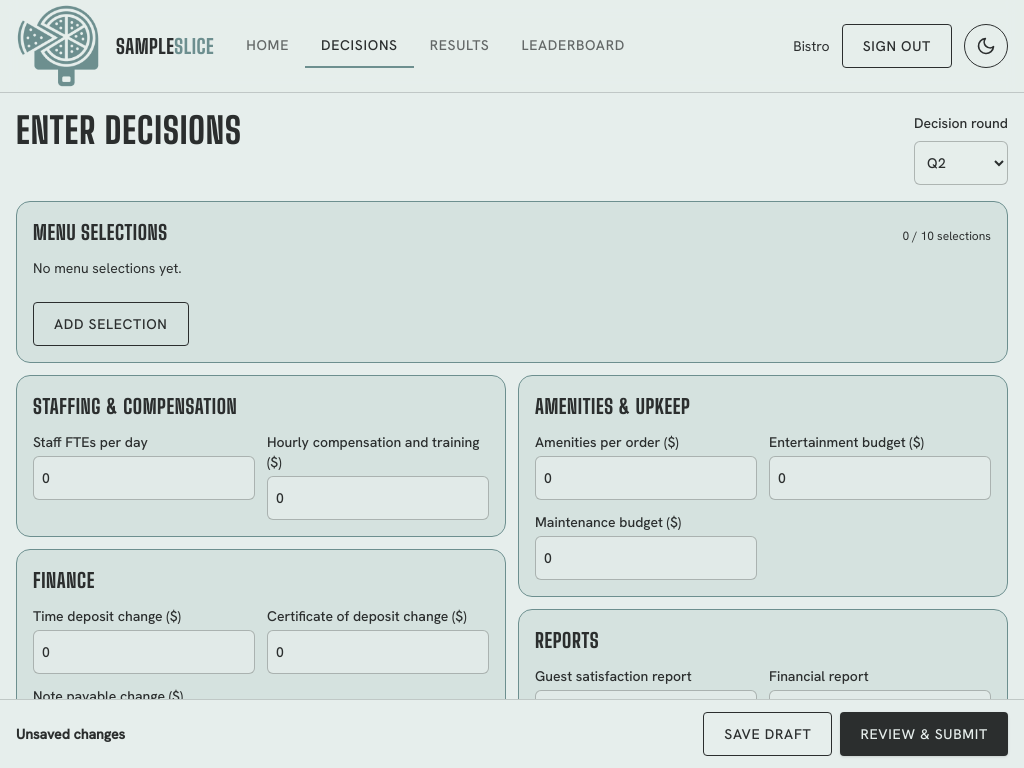
Test case: shows save errors without losing values and allows a manual retry
The width and height of the screenshot is (1024, 768).
Check: the heading "Enter Decisions" is shown, box [16,113,242,149]
Replace the text in the number field labelled "Staff FTEs per day" with "7". click: (144, 478)
box: [33,456,255,500]
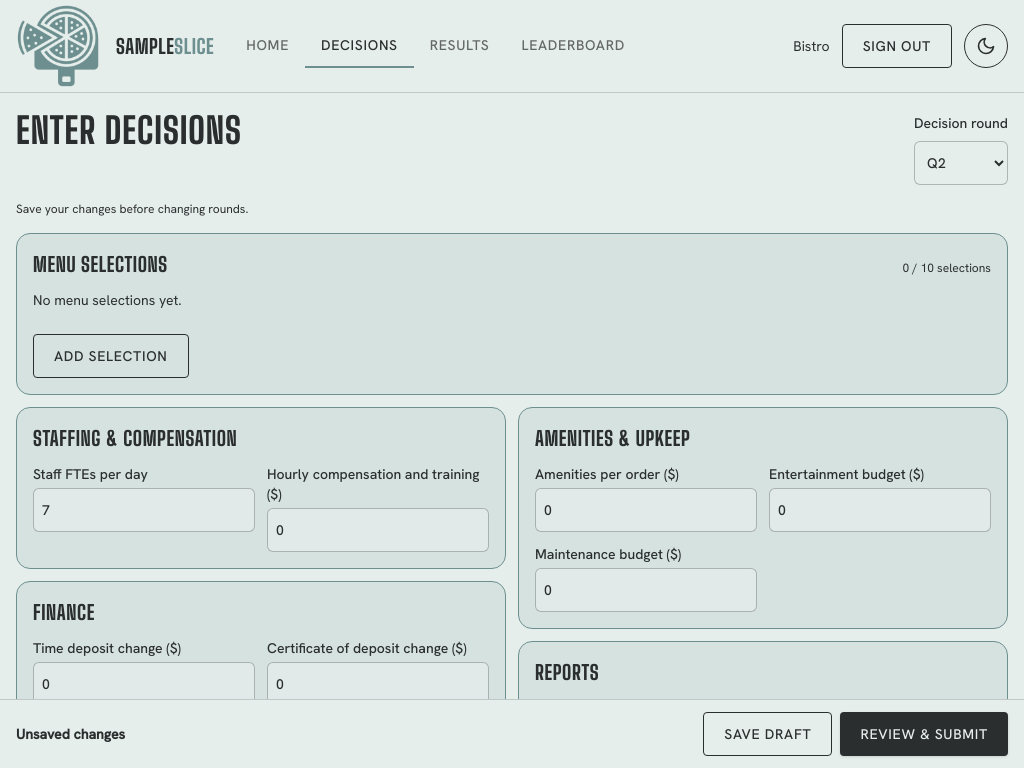
Click the button "Save Draft". click: (768, 734)
box: [703,712,832,756]
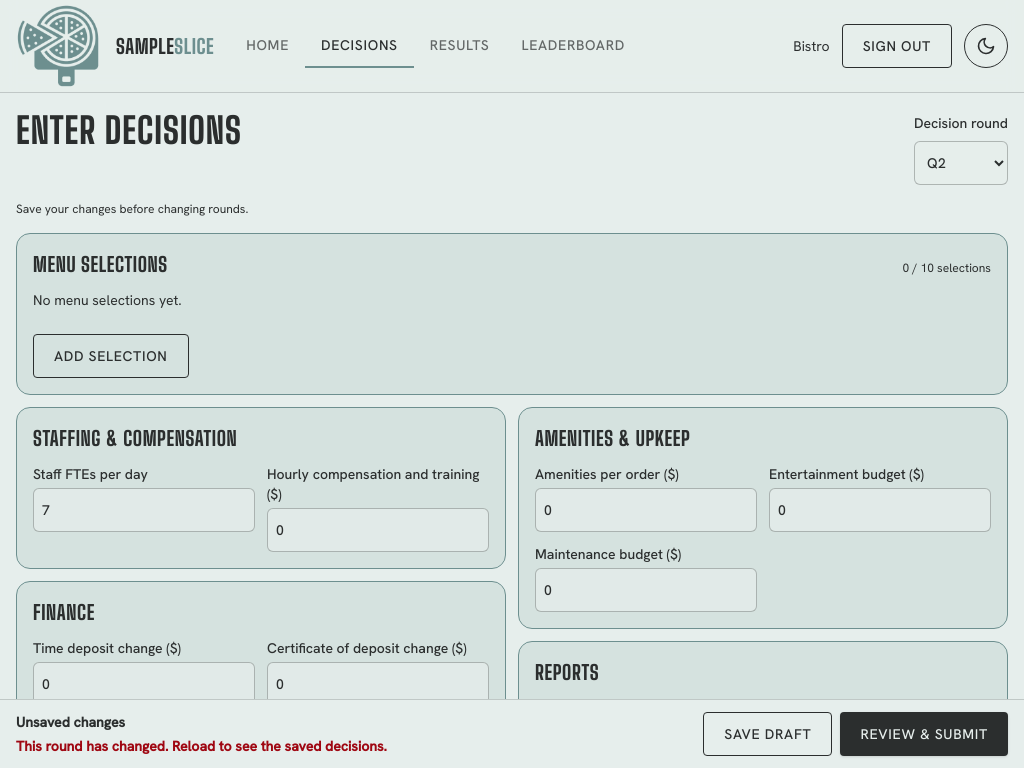
Check: the text "Unsaved changes" is shown, box [16,713,125,731]
Check: the message "This round has changed. Reload to see the saved decisions." is shown, box [16,736,387,756]
Click the button "Save Draft". click: (768, 734)
box: [703,712,832,756]
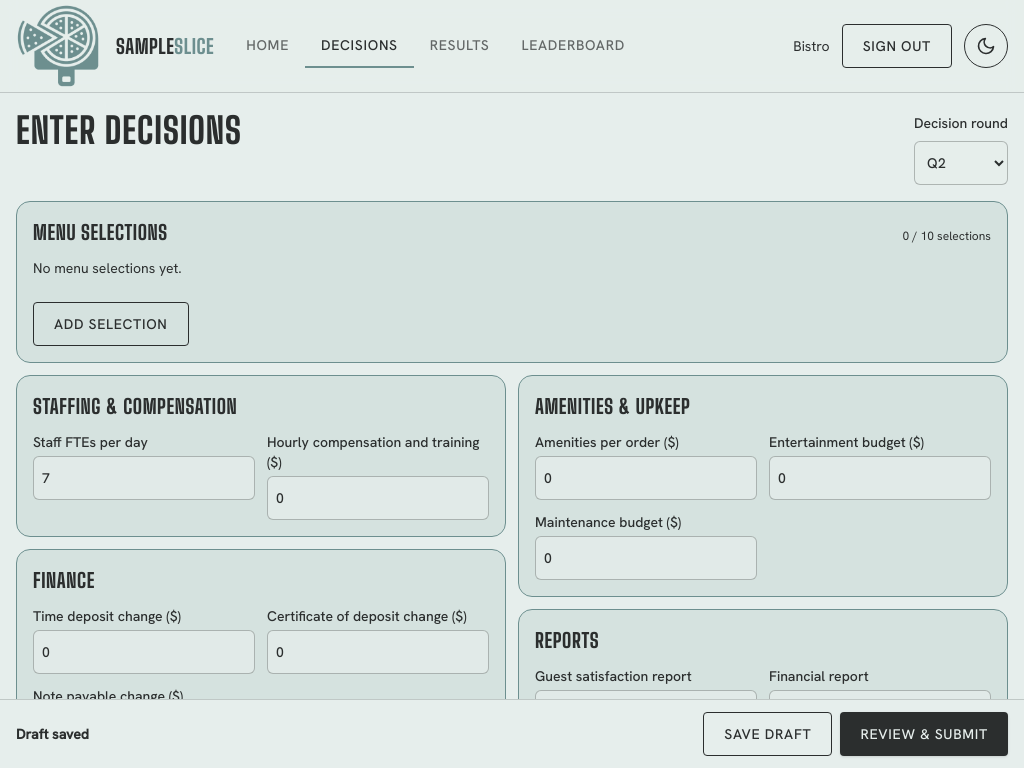
Check: the text "Draft saved" is shown, box [16,724,89,744]
